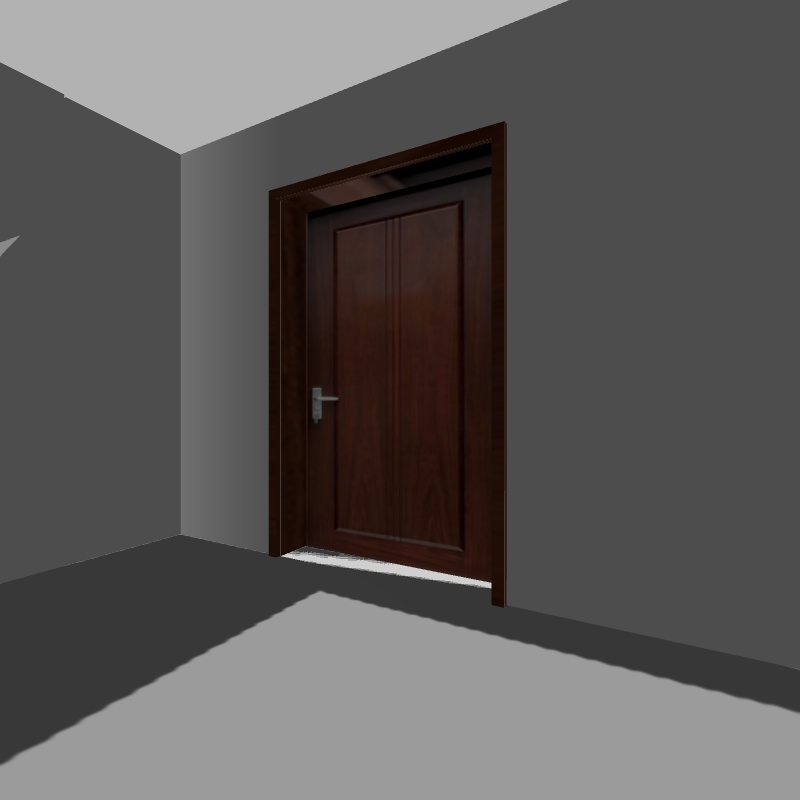handle: (297, 384, 340, 424)
